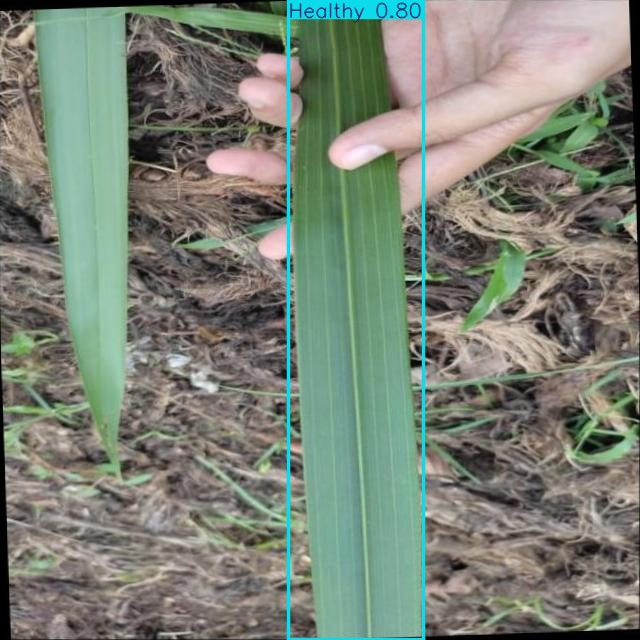Healthy: (289, 0, 423, 639)
